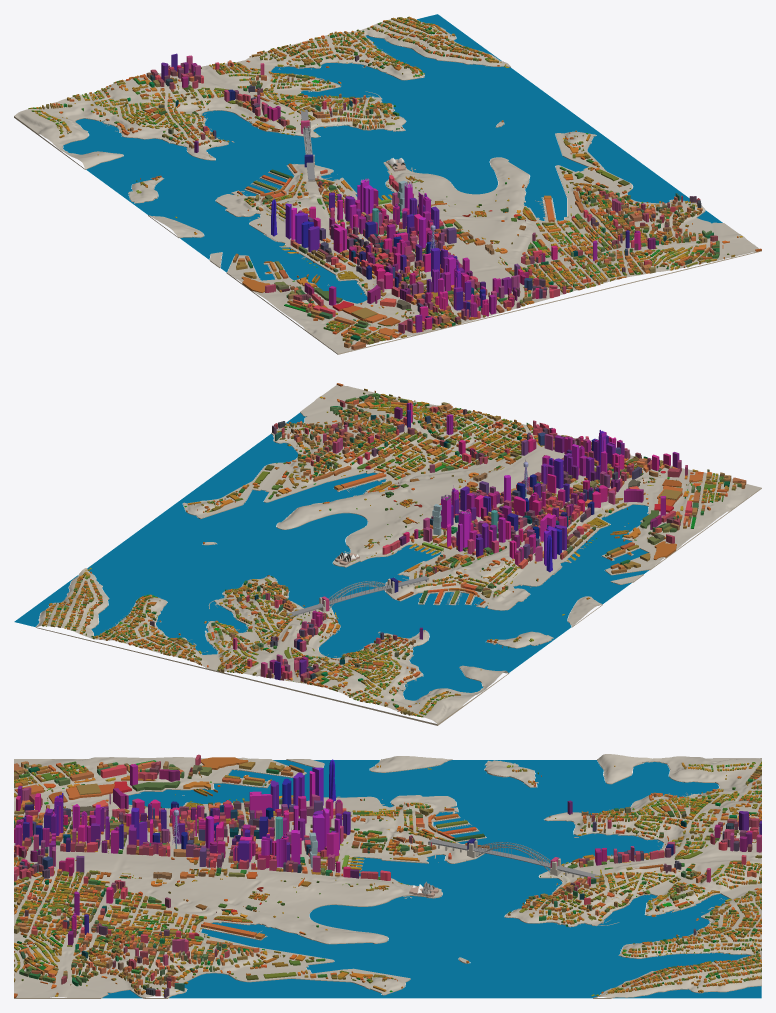
Rendered from blockout.glb.
3 views of the same model, one above another, from view 1: azimuth 30°, elevation 25°; view 2: azimuth 150°, elevation 25°; view 3: azimuth 270°, elevation 25° (orthographic). The views are drawn at different scales.
Visible parts, largest first — view 1: Buildings, WaterMask, Ground; view 2: Buildings, WaterMask, Ground, HarbourBridge; view 3: Buildings, WaterMask, Ground, HarbourBridge.
Part boxes in pixels (x1=…): Buildings: x1=28, y1=16, x2=761, y2=349; WaterMask: x1=63, y1=14, x2=722, y2=303; Ground: x1=14, y1=18, x2=761, y2=354; Buildings: x1=42, y1=383, x2=746, y2=717; WaterMask: x1=14, y1=413, x2=649, y2=700; Ground: x1=35, y1=385, x2=761, y2=725; HarbourBridge: x1=286, y1=576, x2=429, y2=617; Buildings: x1=14, y1=754, x2=761, y2=998; WaterMask: x1=102, y1=760, x2=761, y2=998; Ground: x1=14, y1=754, x2=761, y2=998; HarbourBridge: x1=428, y1=839, x2=601, y2=878.
Size of the model in its own units: 3400 by 332 by 4500.
